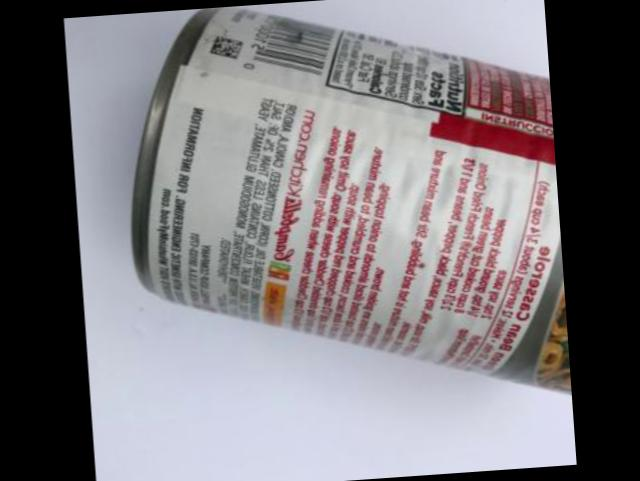metal: (135, 7, 572, 392)
